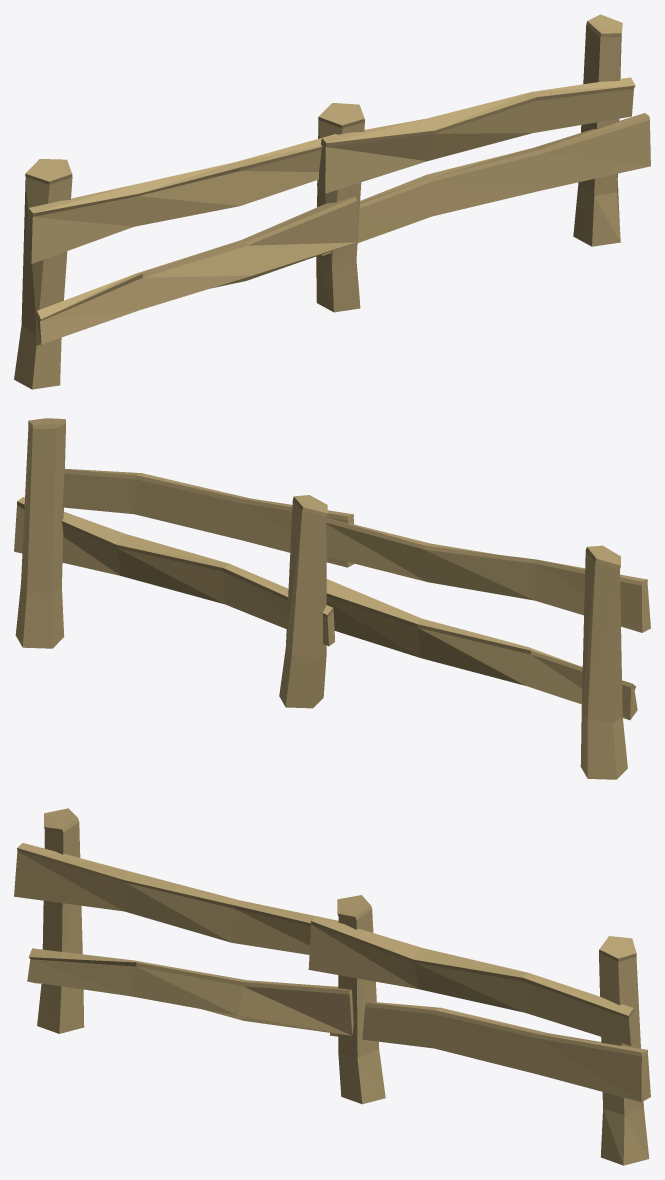
File: LowPoly - Fence C.FBX
3 views of the same model, one above another, from view 1: azimuth 30°, elevation 25°; view 2: azimuth 150°, elevation 25°; view 3: azimuth 330°, elevation 25° (orthographic).
Visible parts, largest first — view 1: LowPolyFence_01, Snow_On_Fence; view 2: LowPolyFence_01, Snow_On_Fence; view 3: LowPolyFence_01, Snow_On_Fence.
Boxes of the visible parts, bbox=[...] form: LowPolyFence_01: bbox=[14, 25, 650, 389]; Snow_On_Fence: bbox=[25, 14, 649, 321]; LowPolyFence_01: bbox=[14, 423, 650, 779]; Snow_On_Fence: bbox=[17, 418, 647, 690]; LowPolyFence_01: bbox=[14, 822, 650, 1165]; Snow_On_Fence: bbox=[17, 808, 647, 1056].
Size of the model in its own units: 496 by 166 by 53.9.
